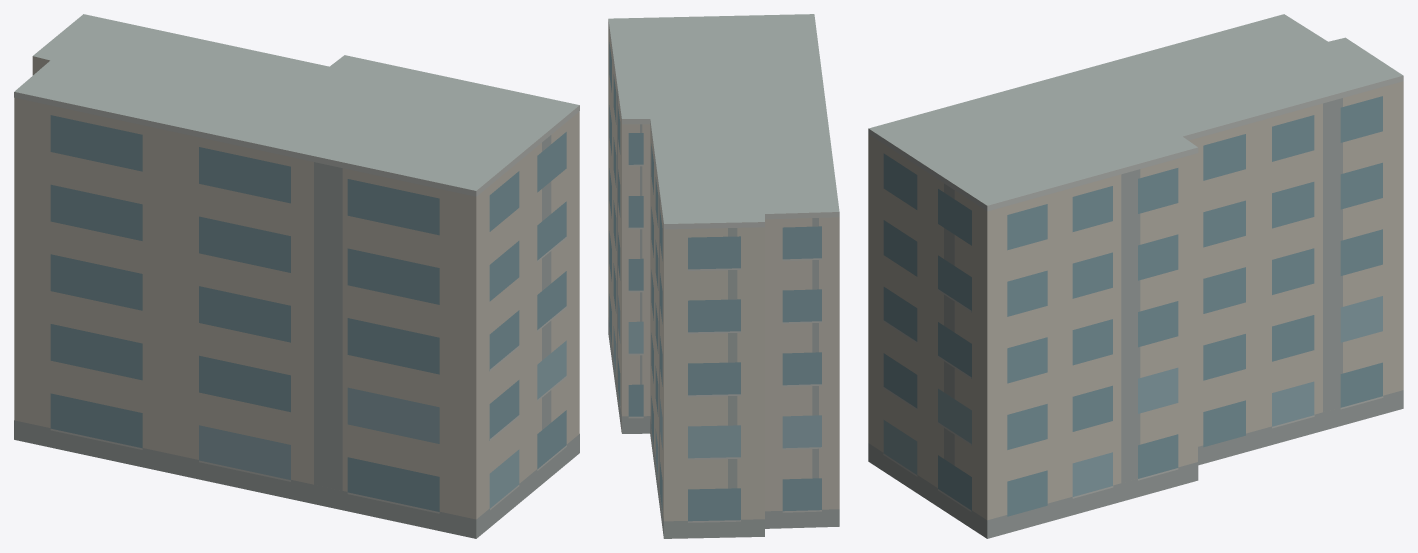
File: survey-upis-32790915.glb
3 renders of one model, left to right at view 1: azimuth 30°, elevation 25°; view 2: azimuth 150°, elevation 25°; view 3: azimuth 270°, elevation 25°, orthographic. The views are drawn at different scales.
Parts seen in each view (by area): view 1: survey-upis-32790915.tmp; view 2: survey-upis-32790915.tmp; view 3: survey-upis-32790915.tmp.
Part boxes in pixels (<box>): survey-upis-32790915.tmp: <box>14,14,579,538</box>; survey-upis-32790915.tmp: <box>608,14,839,538</box>; survey-upis-32790915.tmp: <box>868,14,1403,538</box>.
Bounding box in the file's own units: 17.79 × 14.4 × 20.97.
